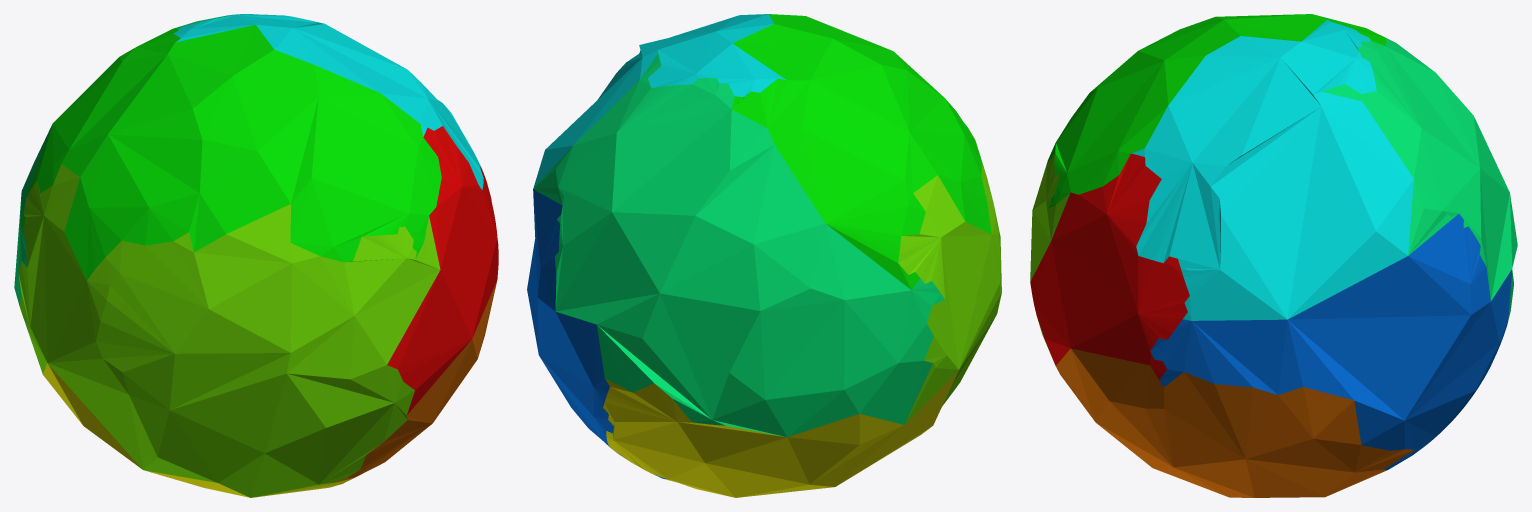
File: SphereH_nanite_LOD5.fbx
The picture shows the model from 3 angles, left to right: view 1: azimuth 30°, elevation 25°; view 2: azimuth 150°, elevation 25°; view 3: azimuth 270°, elevation 25°; orthographic projection.
Size of the model in its own units: 1.96 by 1.99 by 1.99.
